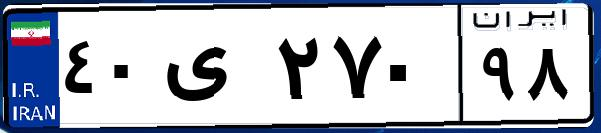0: (385, 28, 445, 110), (110, 28, 158, 98)
2: (270, 28, 330, 110)
4: (57, 26, 110, 100)
7: (330, 28, 385, 110)
8: (525, 38, 570, 115)
9: (475, 38, 525, 113)
ی: (158, 20, 270, 120)
